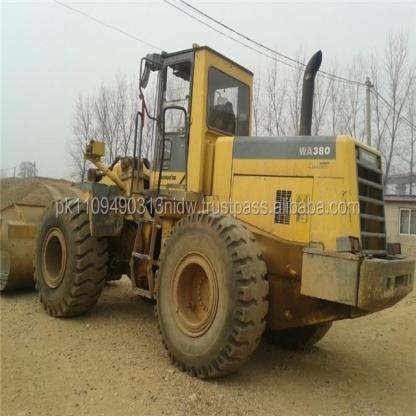bull_dozer/loader/grader: (8, 46, 410, 391)
